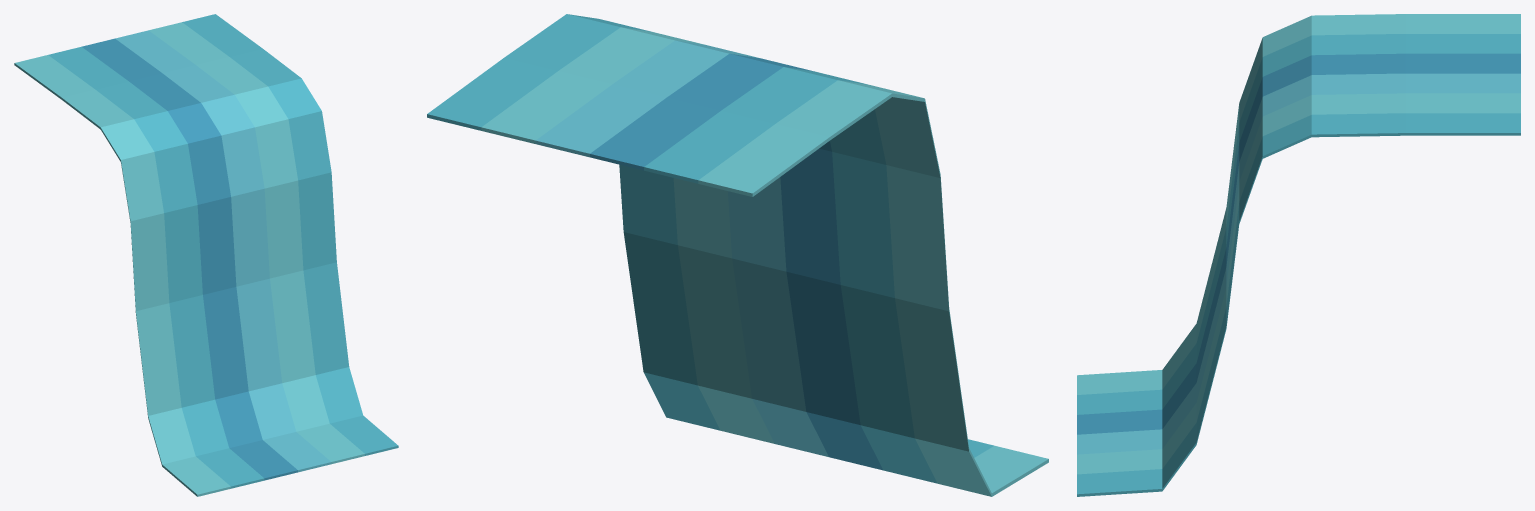
3 views of the same model, side by side, from view 1: azimuth 30°, elevation 25°; view 2: azimuth 150°, elevation 25°; view 3: azimuth 270°, elevation 25° (orthographic). The views are drawn at different scales.
Parts seen in each view (by area): view 1: 折落瀑布六条水带.001; view 2: 折落瀑布六条水带.001; view 3: 折落瀑布六条水带.001.
Part boxes in pixels (bbox=[...]): 折落瀑布六条水带.001: bbox=[14, 14, 398, 496]; 折落瀑布六条水带.001: bbox=[427, 14, 1048, 496]; 折落瀑布六条水带.001: bbox=[1077, 14, 1520, 496].
Size of the model in its own units: 0.66 by 0.941 by 1.04.
